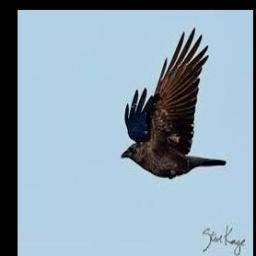Crow: (122, 29, 226, 178)
